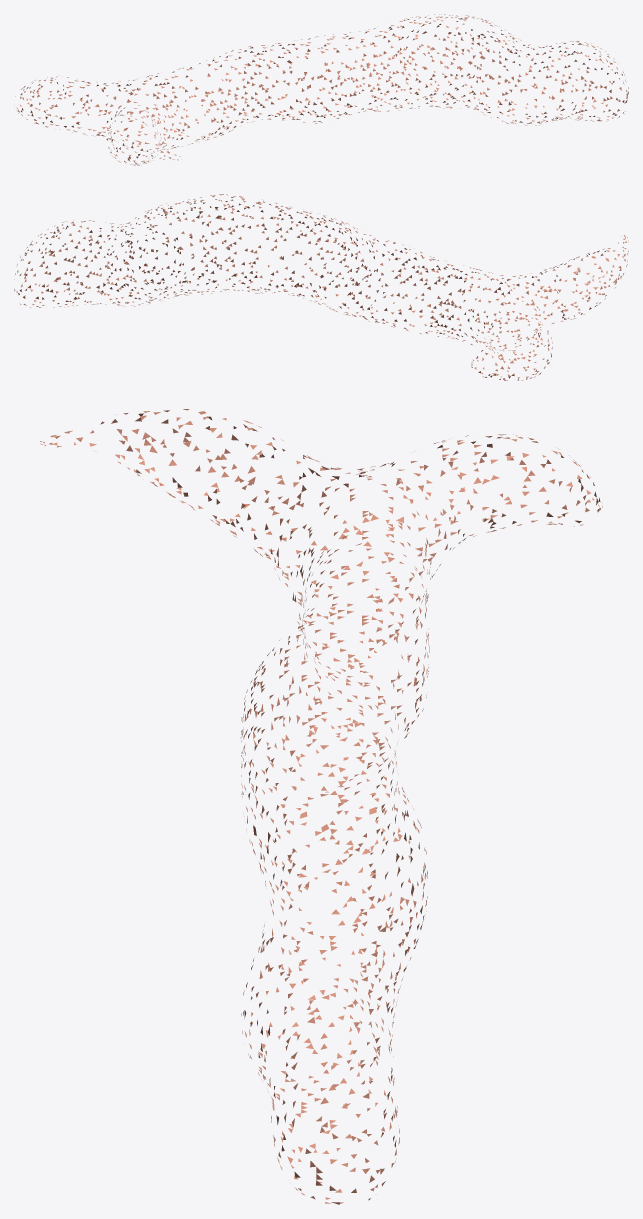
The model's file is morph_003.glb.
3 renders of one model, top to bottom at view 1: azimuth 30°, elevation 25°; view 2: azimuth 150°, elevation 25°; view 3: azimuth 270°, elevation 25°, orthographic. The views are drawn at different scales.
Bounding box in the file's own units: 120 × 30.31 × 52.54.
